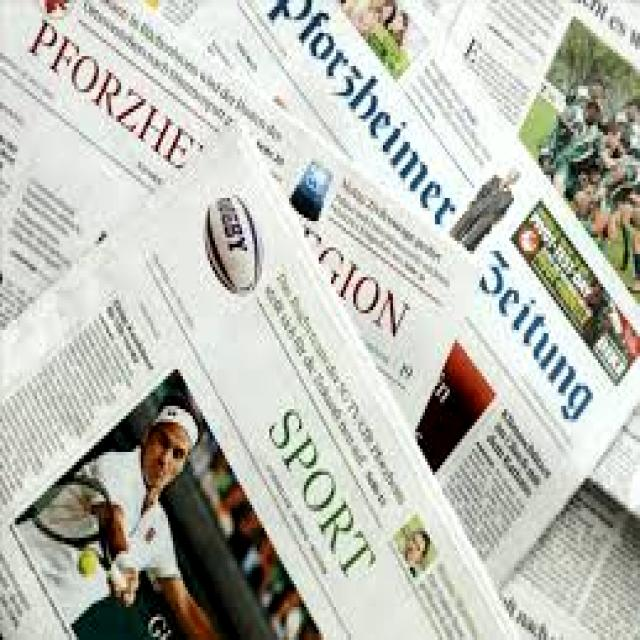Paper: (146, 0, 640, 593), (0, 110, 530, 640), (426, 0, 640, 312), (505, 472, 640, 640)
